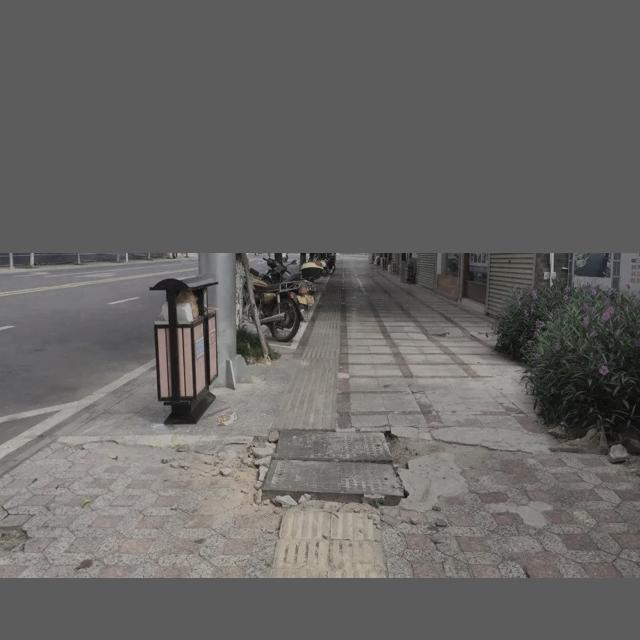circle: (220, 409, 434, 541)
